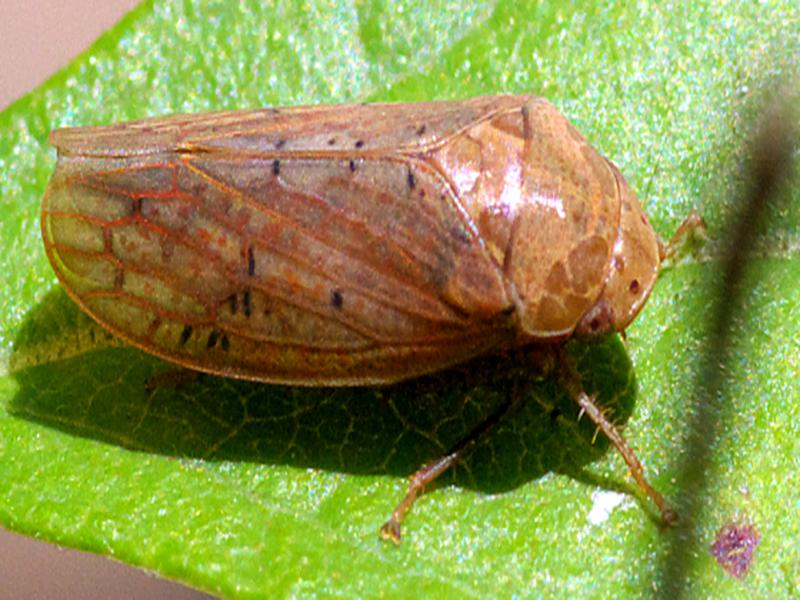Brown_plant_leafhopper: (38, 91, 684, 424)
